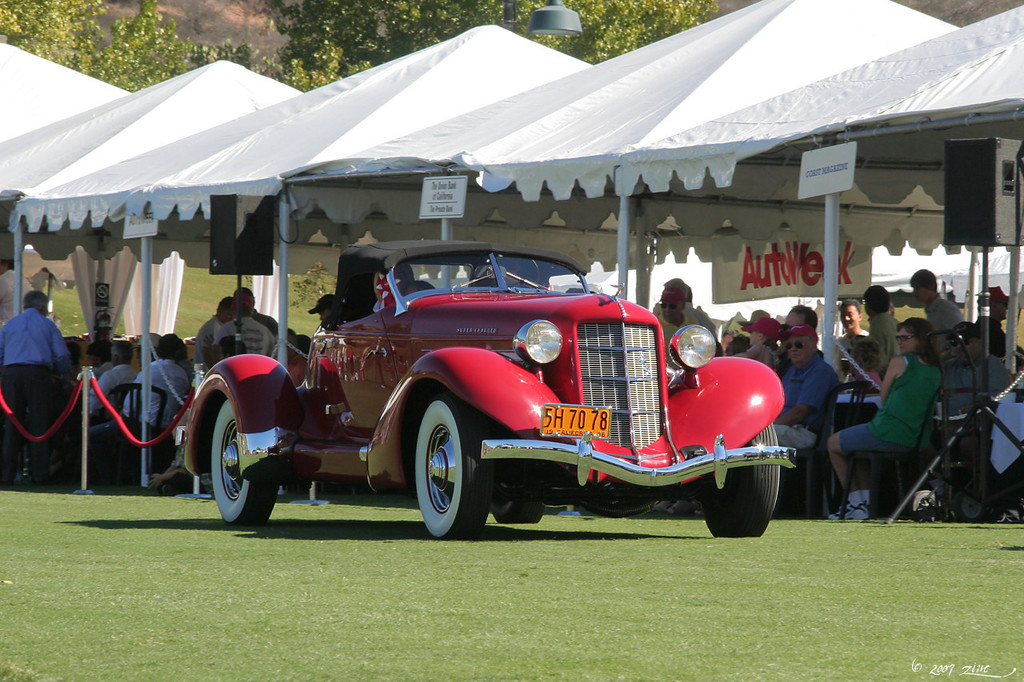Car: (174, 239, 797, 540)
